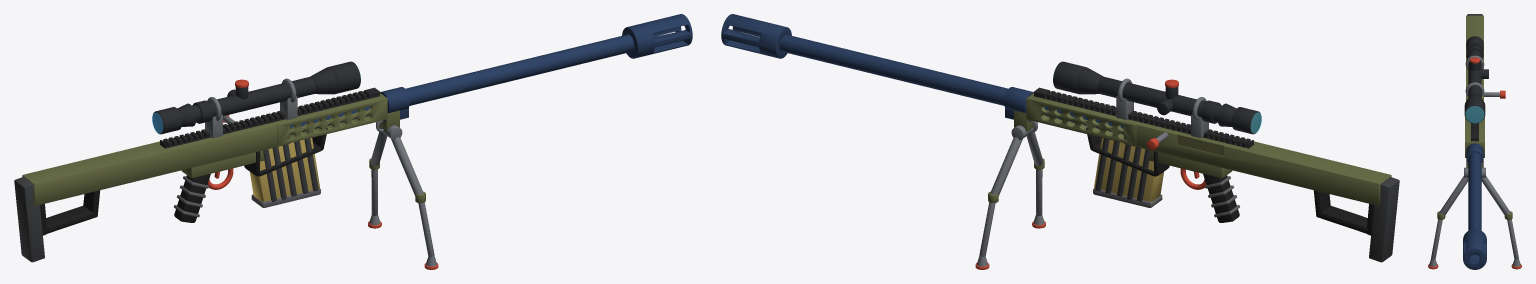
File: barrett_m82.glb
The picture shows the model from 3 angles, left to right: view 1: azimuth 30°, elevation 25°; view 2: azimuth 150°, elevation 25°; view 3: azimuth 270°, elevation 25°; orthographic projection. The views are drawn at different scales.
Visible parts, largest first — view 1: Receiver_Upper, Barrel_Main, Handguard, MuzzleBrake, TopRail, Scope_Tube, LowerFill.001, Magazine, Grip, LowerFill, Stock_RecoilPad.001, Scope_Bell (+5 smaller); view 2: Receiver_Upper, Barrel_Main, Handguard, MuzzleBrake, TopRail, LowerFill.001, Scope_Tube, Magazine, Grip, LowerFill, Stock_RecoilPad.001, Scope_Bell (+5 smaller); view 3: Barrel_Main, MuzzleBrake, Receiver_Upper, Scope_Bell, Handguard, Scope_Tube, Bipod_LegUp, Bipod_LegUp.001, Lens_Obj, Bipod_LegLo, Bipod_LegLo.001, Barrel_Collar (+10 smaller).
Part boxes in pixels (bbox=[...]): Receiver_Upper: bbox=[22, 115, 290, 205]; Barrel_Main: bbox=[290, 34, 634, 134]; Handguard: bbox=[265, 91, 387, 145]; MuzzleBrake: bbox=[622, 14, 692, 58]; TopRail: bbox=[160, 87, 379, 148]; Scope_Tube: bbox=[192, 77, 316, 122]; LowerFill.001: bbox=[14, 177, 44, 262]; Magazine: bbox=[250, 138, 320, 201]; Grip: bbox=[174, 174, 210, 222]; LowerFill: bbox=[181, 150, 264, 178]; Stock_RecoilPad.001: bbox=[42, 205, 96, 234]; Scope_Bell: bbox=[328, 61, 360, 94]; Receiver_Upper: bbox=[1123, 115, 1391, 205]; Barrel_Main: bbox=[779, 34, 1123, 134]; Handguard: bbox=[1026, 91, 1148, 145]; MuzzleBrake: bbox=[721, 14, 791, 58]; TopRail: bbox=[1034, 87, 1253, 148]; LowerFill.001: bbox=[1369, 177, 1399, 262]; Scope_Tube: bbox=[1097, 77, 1221, 122]; Magazine: bbox=[1093, 138, 1163, 201]; Grip: bbox=[1203, 174, 1239, 222]; LowerFill: bbox=[1149, 150, 1232, 178]; Stock_RecoilPad.001: bbox=[1317, 205, 1371, 234]; Scope_Bell: bbox=[1053, 61, 1085, 94]; Barrel_Main: bbox=[1468, 152, 1481, 230]; MuzzleBrake: bbox=[1463, 229, 1486, 269]; Receiver_Upper: bbox=[1466, 15, 1483, 100]; Scope_Bell: bbox=[1464, 97, 1485, 123]; Handguard: bbox=[1465, 117, 1484, 157]; Scope_Tube: bbox=[1468, 50, 1481, 97]; Bipod_LegUp: bbox=[1481, 176, 1510, 215]; Bipod_LegUp.001: bbox=[1439, 176, 1468, 215]; Lens_Obj: bbox=[1465, 106, 1484, 123]; Bipod_LegLo: bbox=[1507, 219, 1518, 259]; Bipod_LegLo.001: bbox=[1431, 219, 1442, 259]; Barrel_Collar: bbox=[1466, 143, 1483, 162].
Size of the model in its own units: 1.43 by 0.4161 by 0.236.
